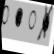correct: (12, 6, 24, 28)
not correct: (35, 3, 53, 42)
